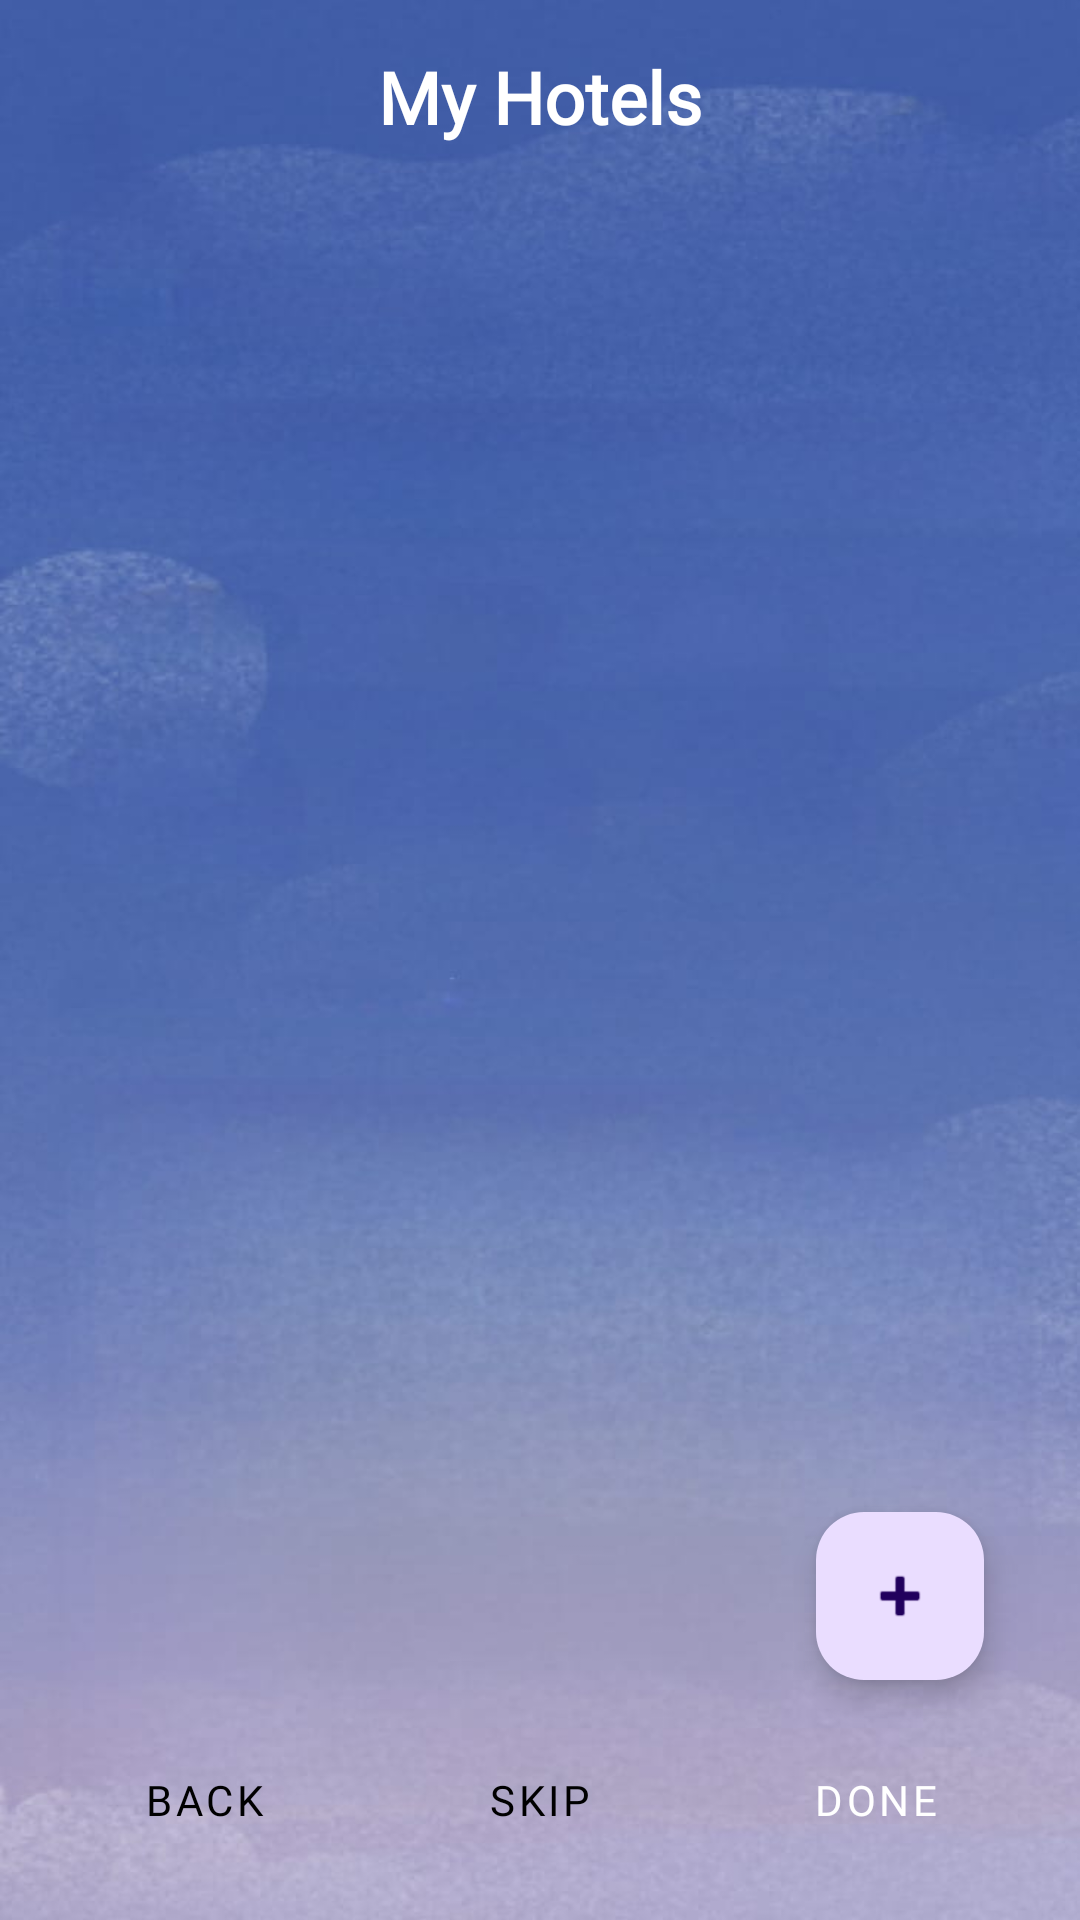

Icons on this 1080w x 1920h Android screen, each with the point to tap as [x,y]:
Add Hotel: [900,1596]
